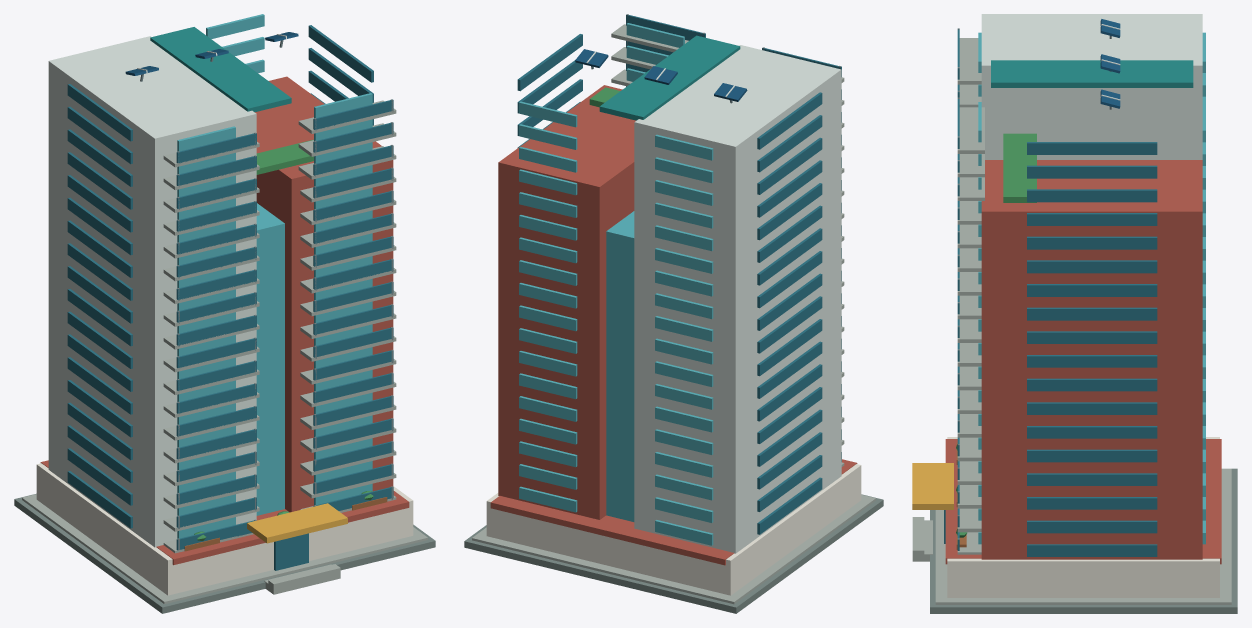
Rendered from apartment_lv5.glb.
3 renders of one model, left to right at view 1: azimuth 30°, elevation 25°; view 2: azimuth 150°, elevation 25°; view 3: azimuth 270°, elevation 25°, orthographic. The views are drawn at different scales.
Visible parts, largest first — view 1: glassDark, white, glass, concrete, brick, ivory, teal, pavement, gold, steel, green, solar; view 2: white, glass, brick, glassDark, ivory, concrete, pavement, teal, solar; view 3: brick, glassDark, white, concrete, ivory, teal, pavement, glass, green, gold, solar.
Part boxes in pixels (x1,y1,x2,y2): glassDark: (67,25,393,570); white: (48,34,286,547); glass: (177,14,372,538); concrete: (22,100,427,604); brick: (40,76,409,565); ivory: (36,463,413,595); teal: (150,27,291,112); pavement: (14,493,435,613); gold: (247,503,347,543); steel: (140,40,393,550); green: (194,139,373,540); solar: (125,32,298,75); white: (586,45,841,553); glass: (519,23,713,545); brick: (490,85,857,565); glassDark: (517,15,841,534); ivory: (486,464,861,595); concrete: (472,24,875,604); pavement: (464,494,883,613); teal: (599,35,740,120); solar: (575,49,747,101); brick: (945,160,1221,564); glassDark: (944,29,1157,556); white: (981,14,1202,159); concrete: (912,38,1231,604); ivory: (947,437,1219,597); teal: (991,60,1193,87); pavement: (930,468,1237,613); glass: (978,32,1205,544); green: (956,133,1036,537); gold: (912,463,953,509); solar: (1100,19,1120,108).
Size of the model in its own units: 9.8 by 16 by 9.72.
